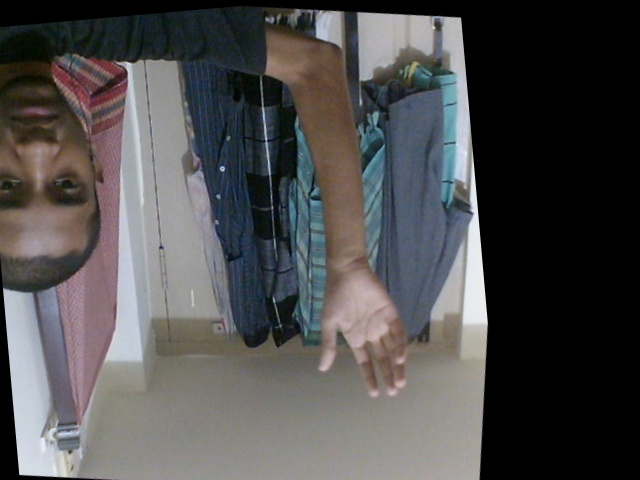hand: (310, 252, 414, 402)
